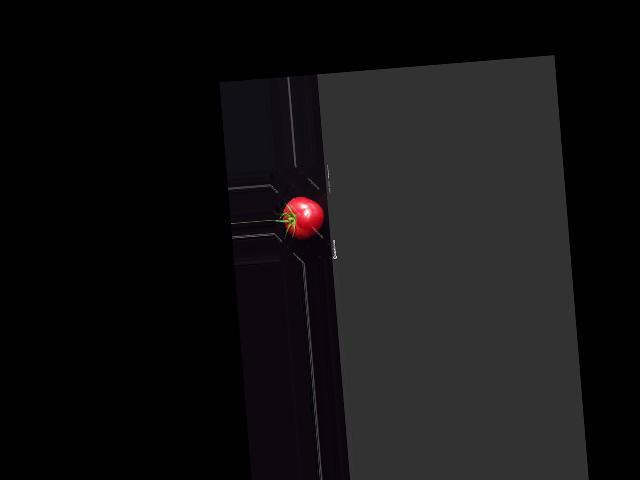tomato: (281, 194, 325, 240)
